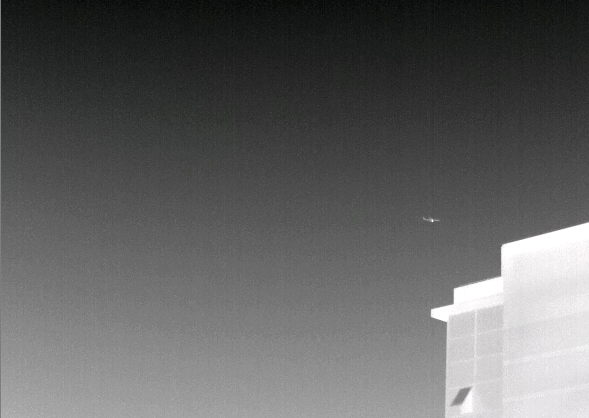dim target: (421, 216, 441, 224)
